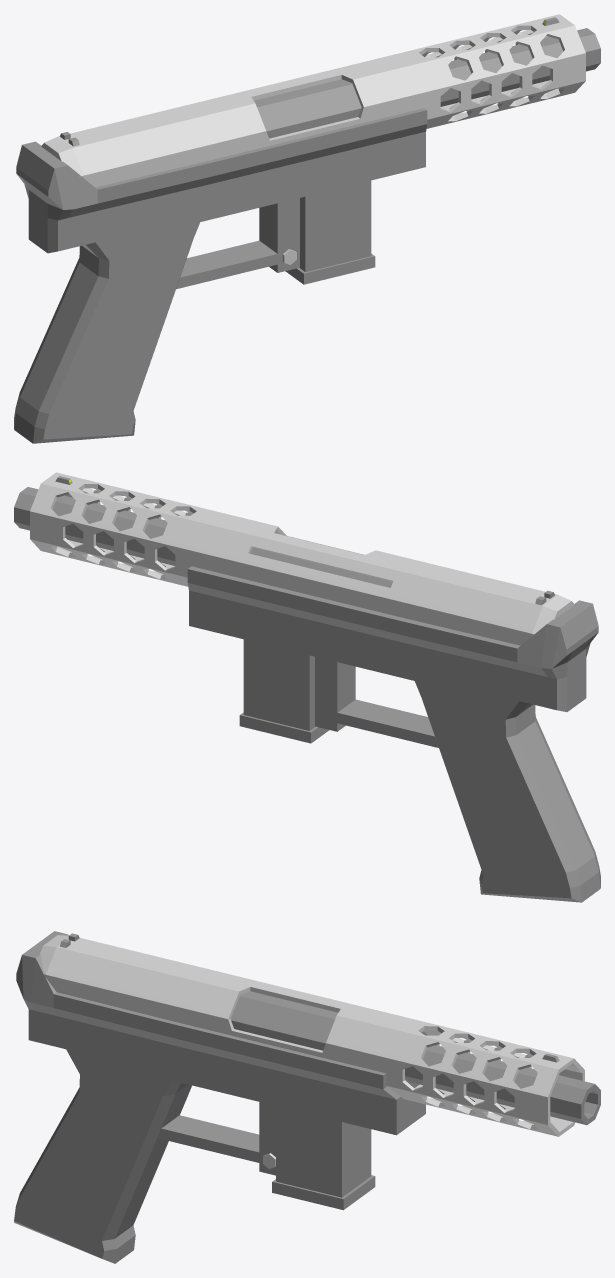
File: Pistol6_02.fbx
The picture shows the model from 3 angles, top to bottom: view 1: azimuth 30°, elevation 25°; view 2: azimuth 150°, elevation 25°; view 3: azimuth 330°, elevation 25°; orthographic projection.
Visible parts, largest first — view 1: Pistol6_02; view 2: Pistol6_02; view 3: Pistol6_02.
Part boxes in pixels (x1,y1,x2,y2): Pistol6_02: [14, 14, 600, 443]; Pistol6_02: [14, 472, 600, 902]; Pistol6_02: [14, 931, 600, 1263].
Size of the model in its own units: 0.3373 by 0.1735 by 0.0451.
